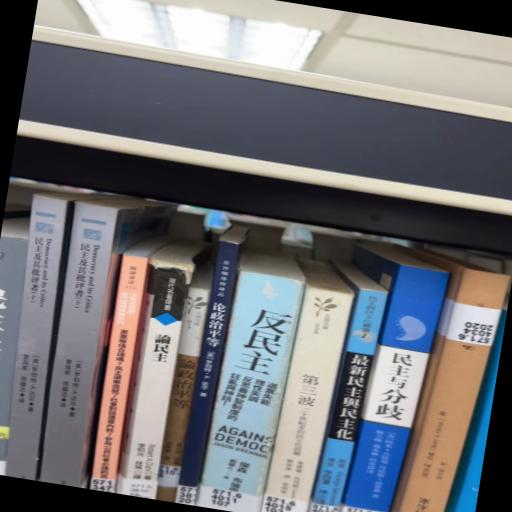reverse: (391, 249, 509, 512)
